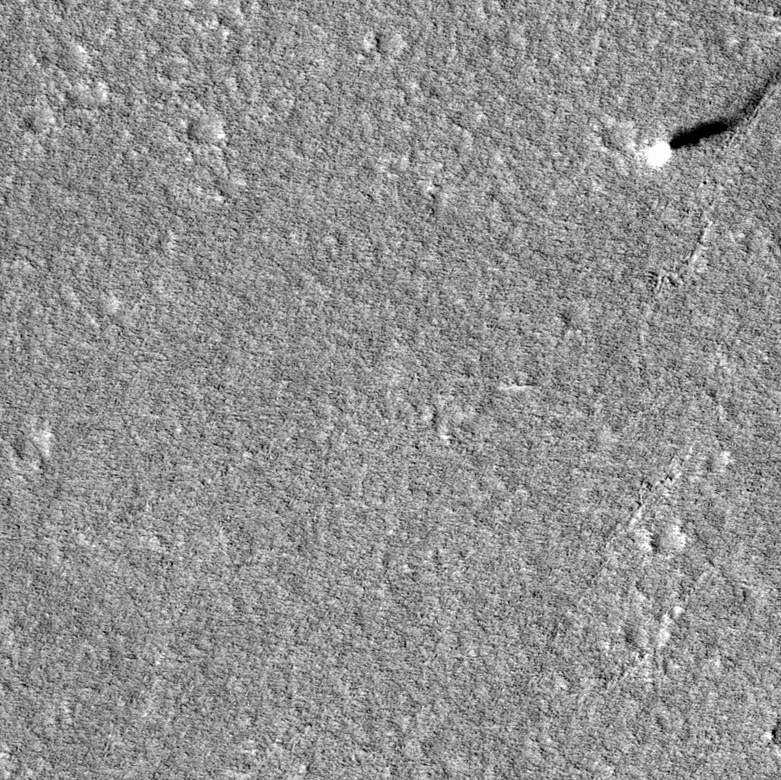dust_devil: (641, 67, 781, 171)
